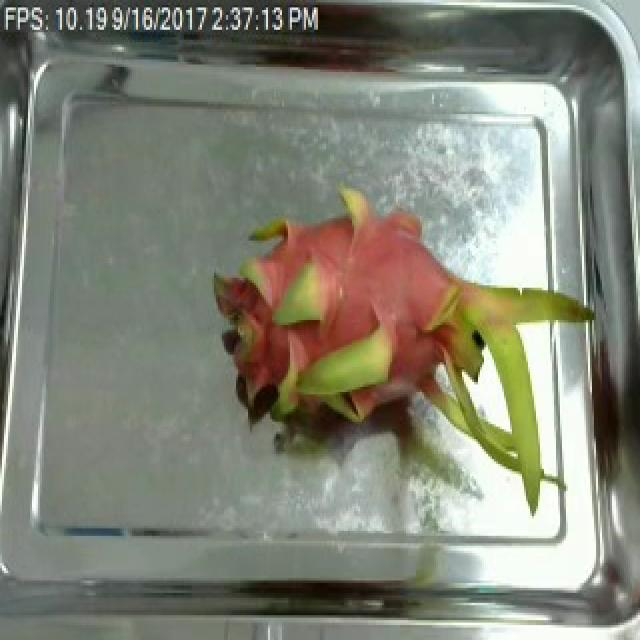fruit: (198, 154, 598, 518)
